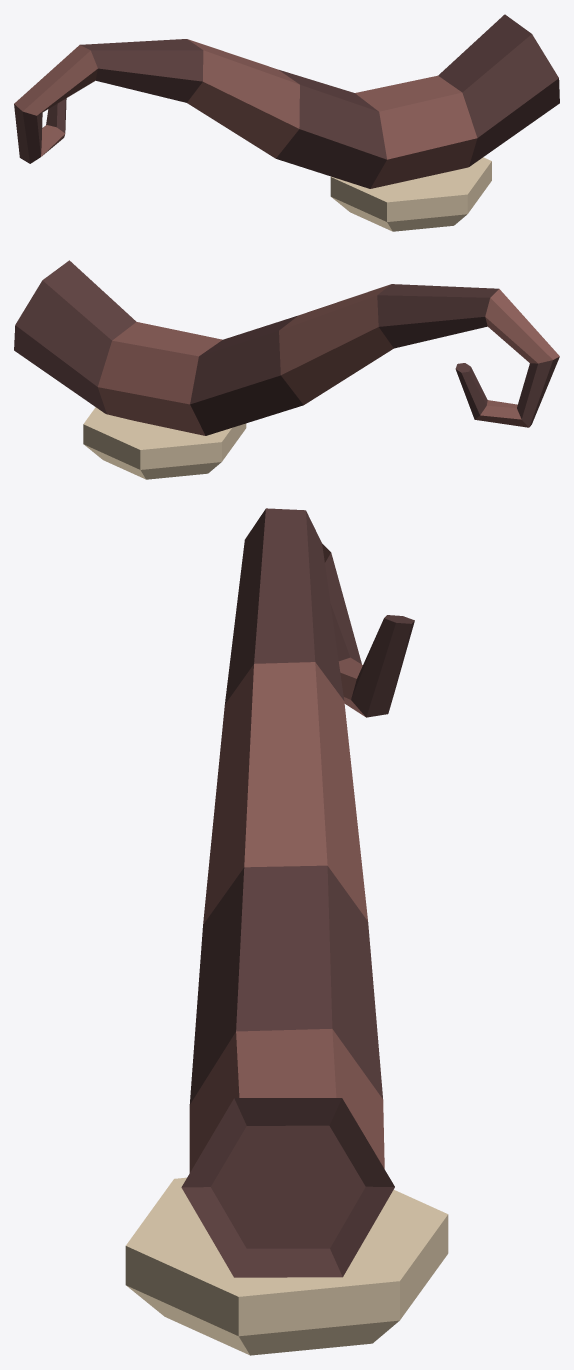
The model's file is DarkRoseWoodDecorationMediumGnarledHook1.fbx.
3 views of the same model, one above another, from view 1: azimuth 30°, elevation 25°; view 2: azimuth 150°, elevation 25°; view 3: azimuth 270°, elevation 25° (orthographic). The views are drawn at different scales.
Visible parts, largest first — view 1: DarkRoseWoodDecorationMediumGnarledHook1; view 2: DarkRoseWoodDecorationMediumGnarledHook1; view 3: DarkRoseWoodDecorationMediumGnarledHook1.
Boxes of the visible parts, left/top/right/bottom form: DarkRoseWoodDecorationMediumGnarledHook1: left=14, top=14, right=559, bottom=231; DarkRoseWoodDecorationMediumGnarledHook1: left=14, top=260, right=559, bottom=479; DarkRoseWoodDecorationMediumGnarledHook1: left=125, top=508, right=448, bottom=1355.
Size of the model in its own units: 805 by 350 by 214.
3 materials, 3 textured.
